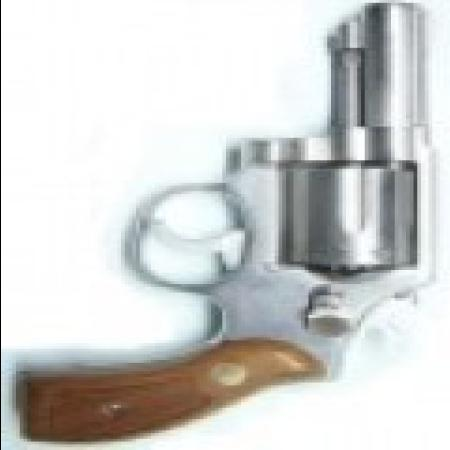Pistol: (12, 8, 442, 438)
